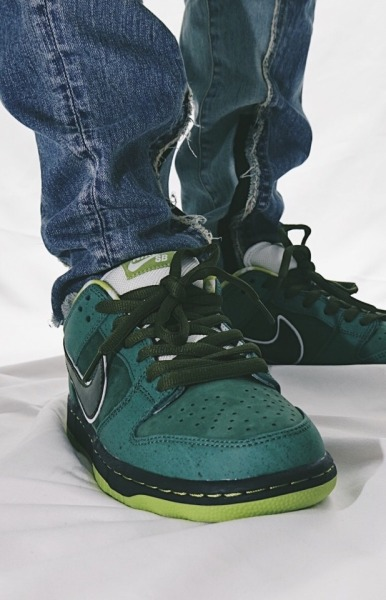Nike SB Dunk Green Lobster: (51, 238, 348, 531)
